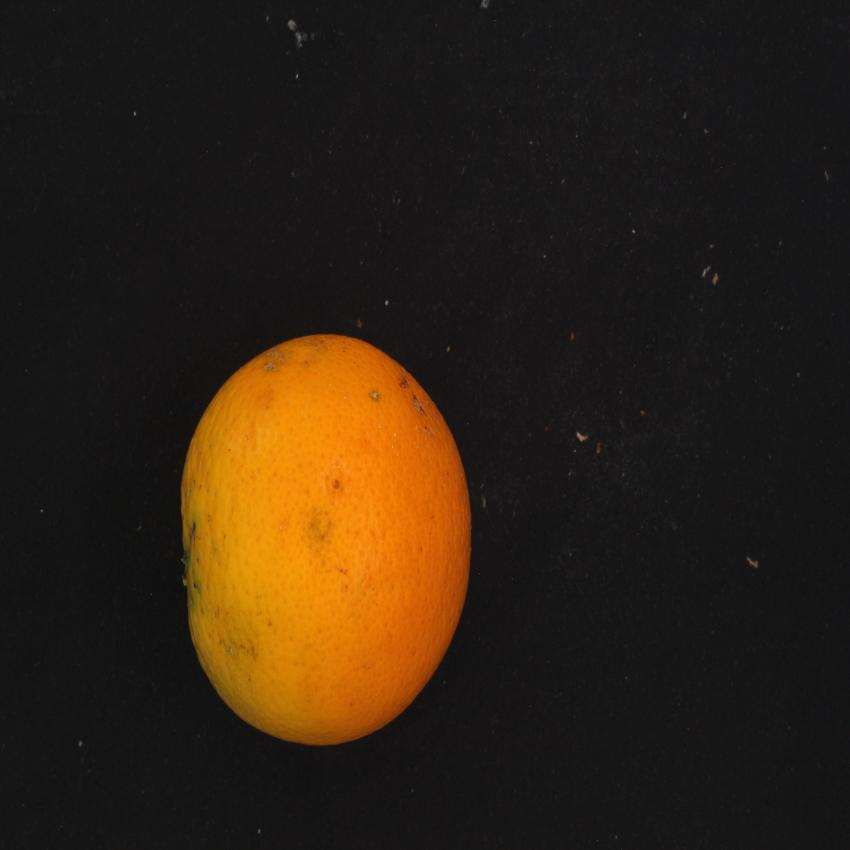Buen estado: (164, 316, 502, 767)
